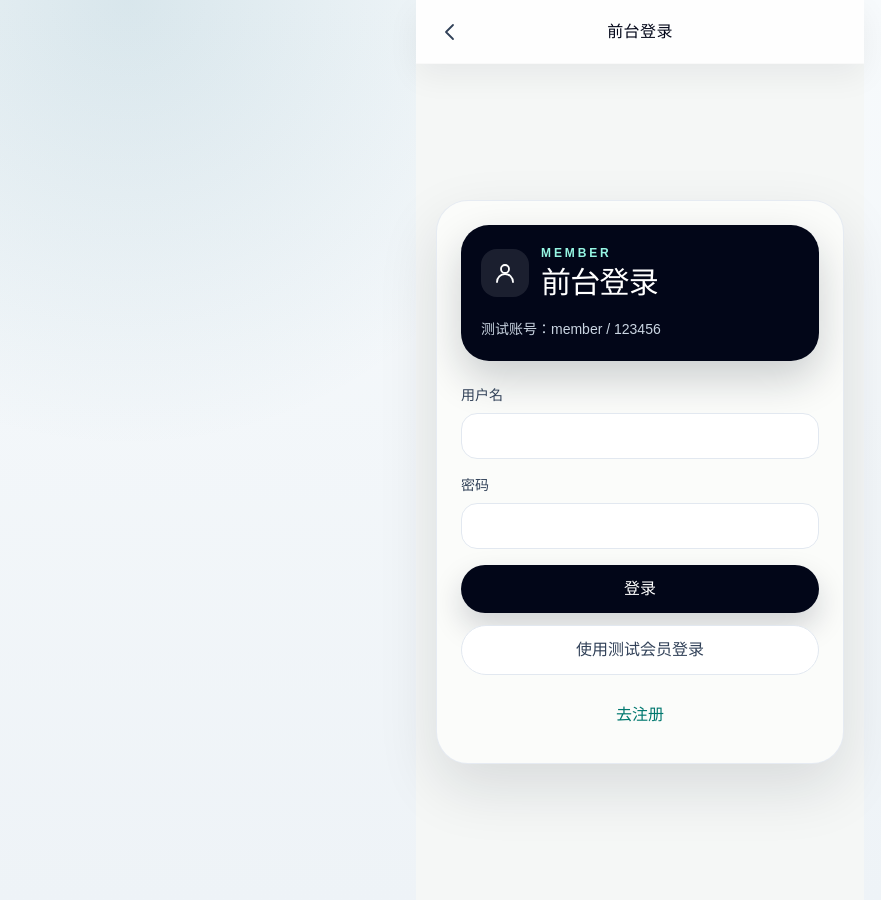
shop transaction flow pages › renders top navigation on standalone login page
The width and height of the screenshot is (881, 900).
Expected: the header with test id "shop-navigation-bar" reads "前台登录", [607, 22, 673, 40]
Expected: the field labelled "用户名" is shown, [461, 413, 819, 459]
Step 1. Click the button "去注册" → [640, 715], box [461, 691, 819, 739]
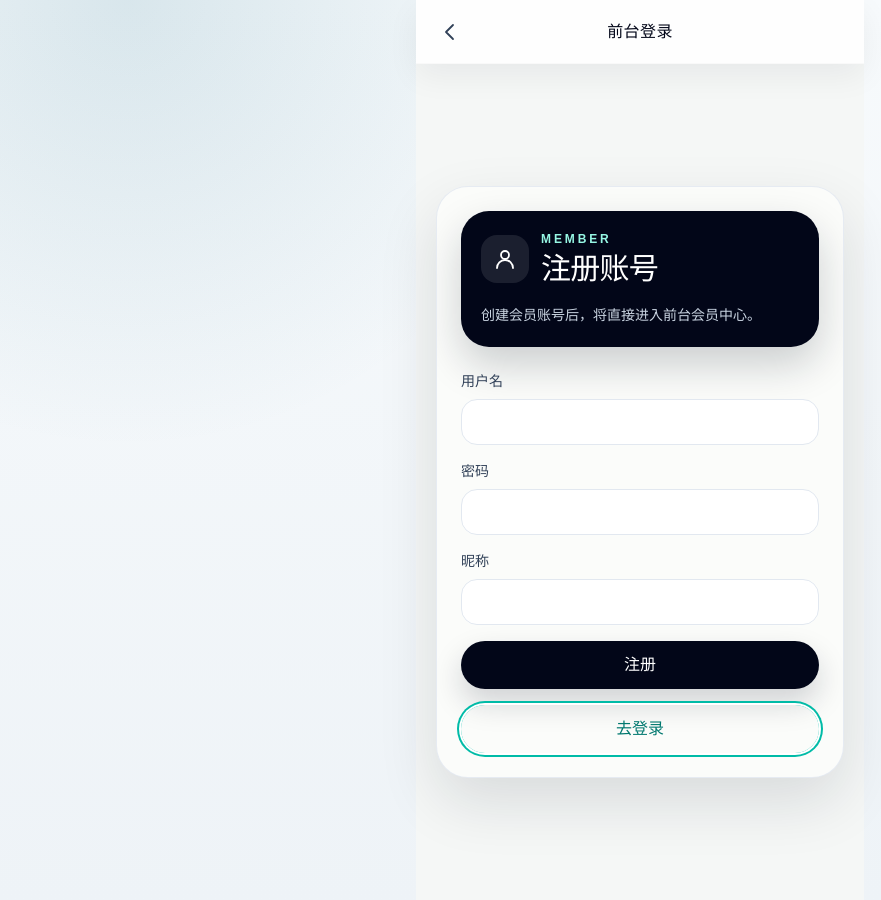
Now the heading "注册账号" is shown, box [541, 251, 658, 287]
Now the field labelled "昵称" is shown, box [461, 579, 819, 625]
Step 2. Type "new-member" into the field labelled "用户名" → [640, 422], box [461, 399, 819, 445]
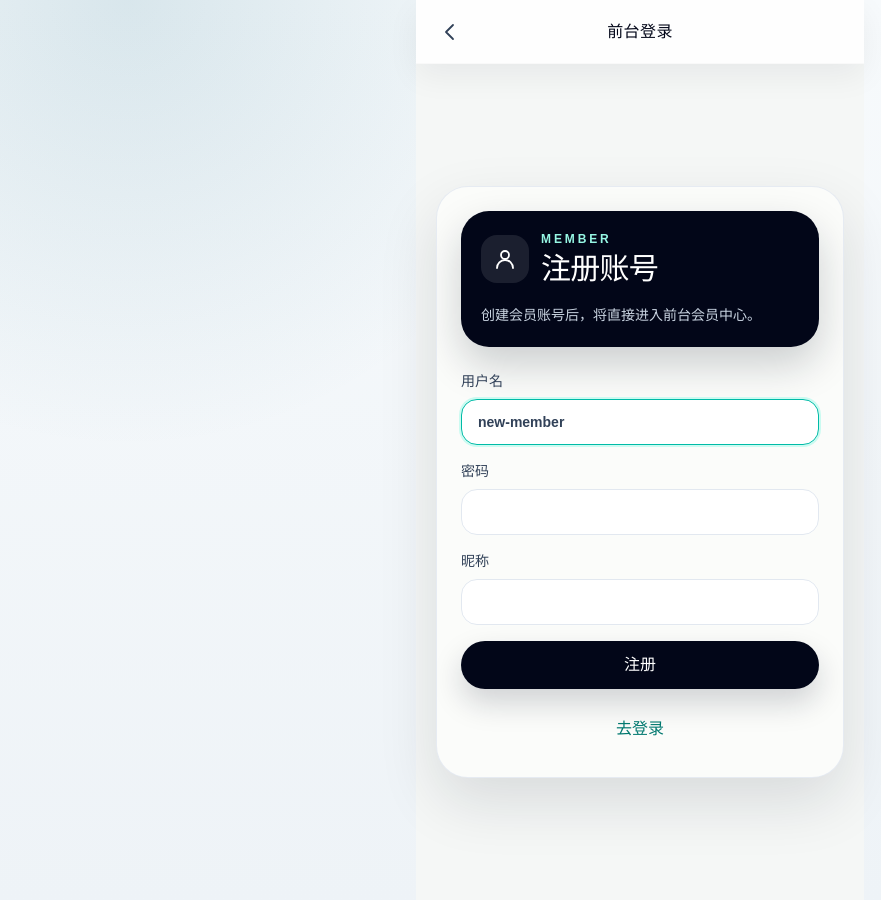
Step 3. Type "123456" into the password field labelled "密码" → [640, 512], box [461, 489, 819, 535]
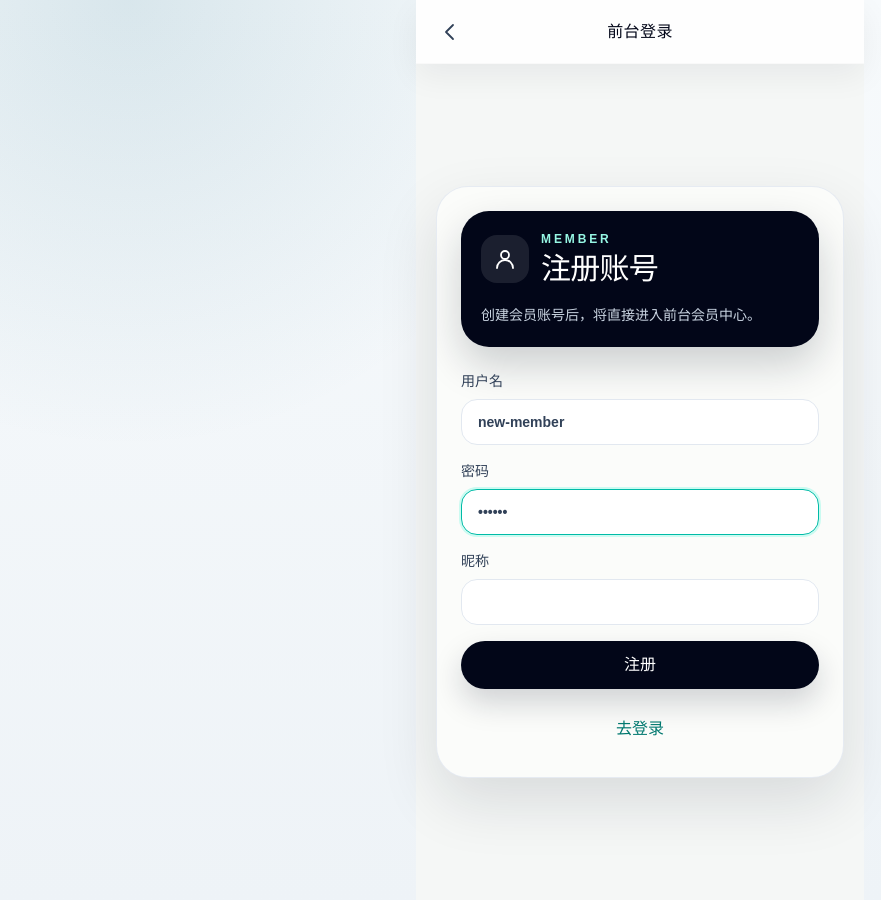
Step 4. Type "新会员" into the field labelled "昵称" → [640, 602], box [461, 579, 819, 625]
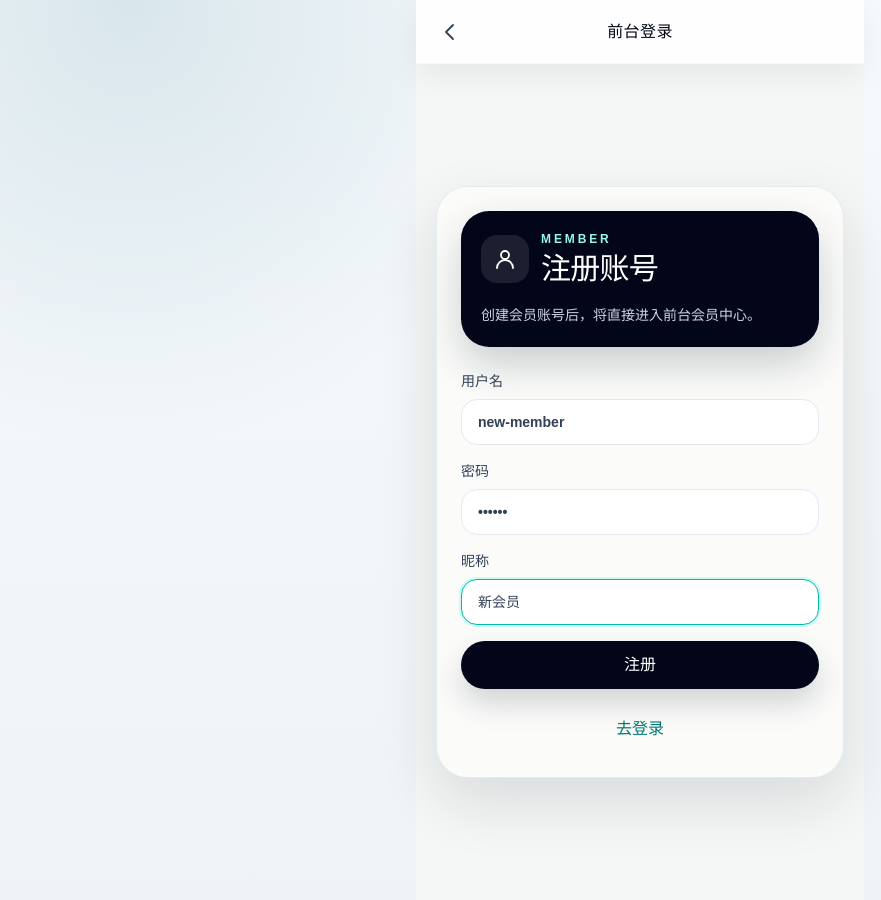
Step 5. Click the button "注册" → [640, 665], box [461, 641, 819, 689]
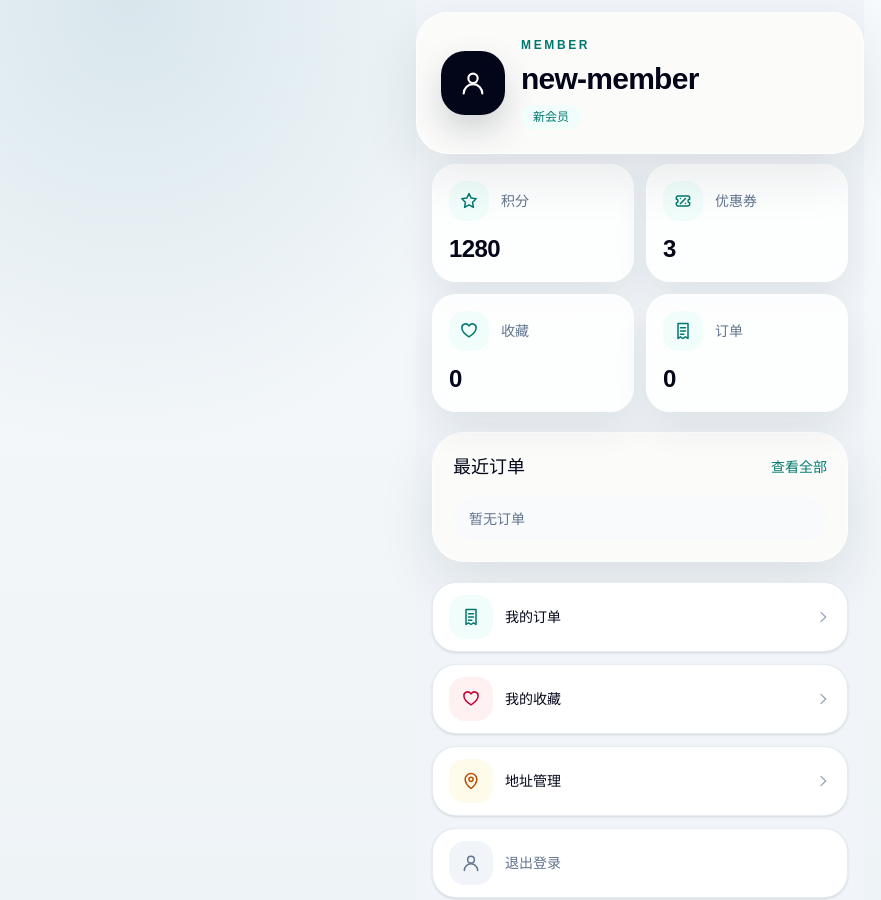
Now the heading "new-member" is shown, box [521, 62, 699, 95]
